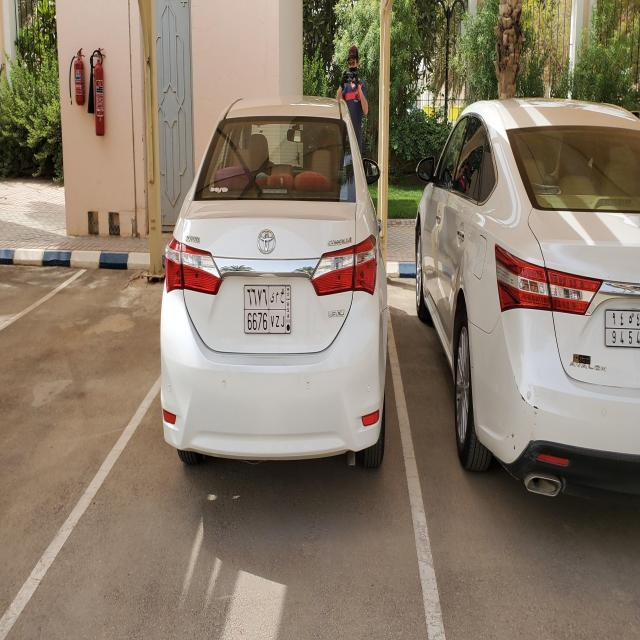license_plate: (244, 285, 291, 333), (605, 310, 640, 350)
